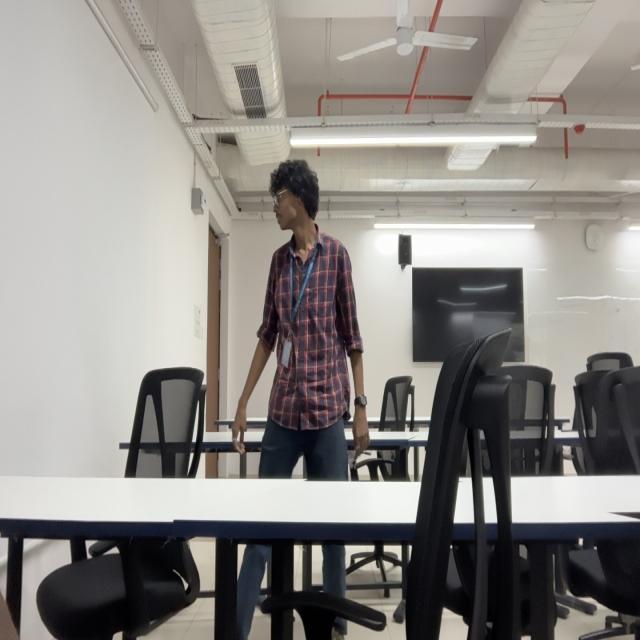darshan: (266, 156, 322, 233)
